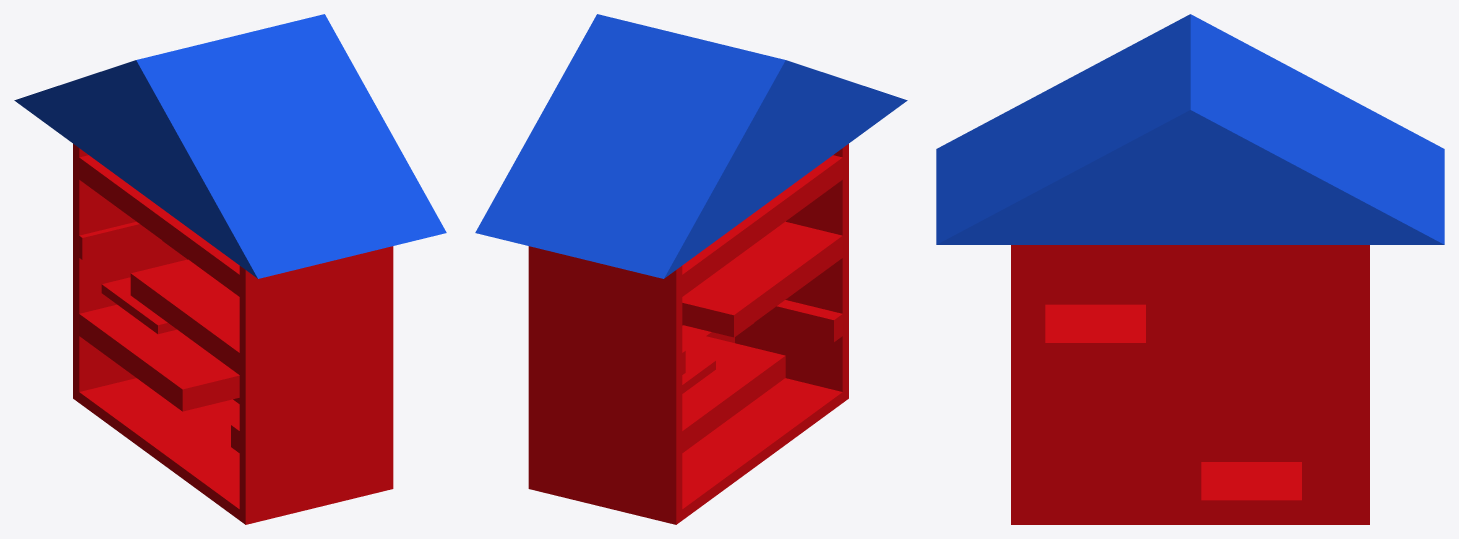
Rendered from dollHouse.fbx.
The picture shows the model from 3 angles, left to right: view 1: azimuth 30°, elevation 25°; view 2: azimuth 150°, elevation 25°; view 3: azimuth 270°, elevation 25°; orthographic projection. The views are drawn at different scales.
Parts seen in each view (by area): view 1: DollHouse; view 2: DollHouse; view 3: DollHouse.
Boxes of the visible parts, x1,y1,x2,y2 form: DollHouse: (14,14,446,524); DollHouse: (475,14,907,524); DollHouse: (936,14,1444,524).
Bounding box in the file's own units: 126 × 261 × 283.
